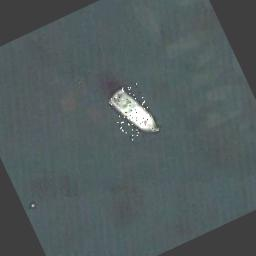boat: (104, 80, 158, 144)
